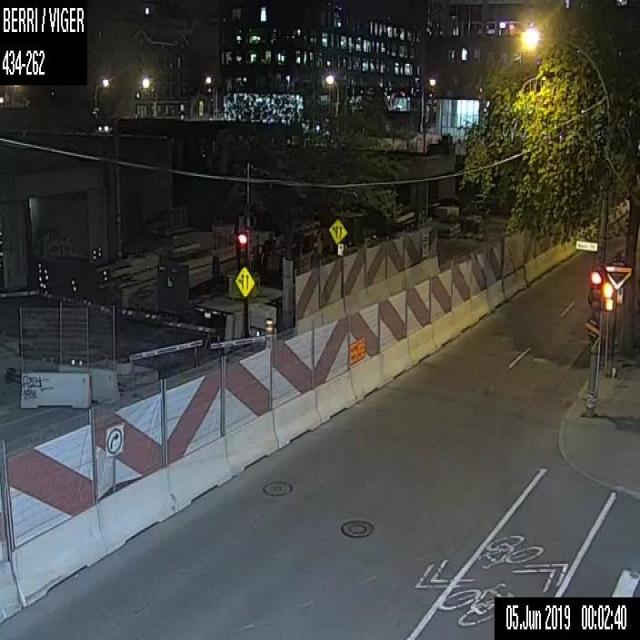construction: (0, 115, 632, 625), (264, 317, 275, 342)
